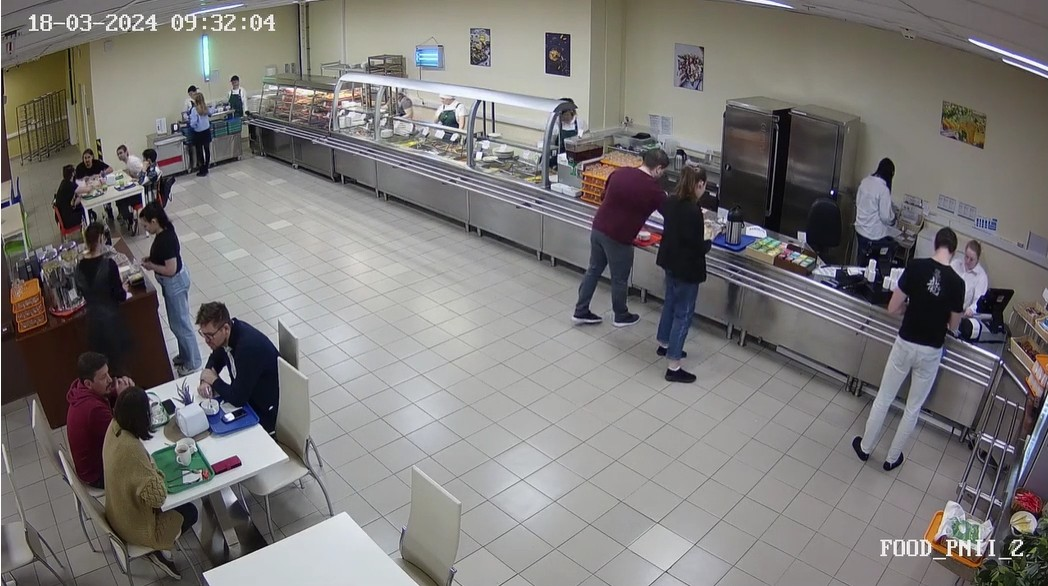Na_Kasse: (772, 215, 992, 473)
Ne_v_Ocheredi: (118, 200, 245, 361), (71, 223, 125, 346)
Personal: (850, 151, 900, 268), (426, 76, 474, 145), (542, 93, 585, 155), (961, 233, 992, 315), (225, 69, 253, 118)
Vybiraet: (511, 126, 685, 329), (657, 163, 722, 383), (188, 85, 216, 172)
Za_Stolom: (37, 346, 128, 486), (194, 291, 287, 420), (104, 384, 171, 549), (47, 164, 86, 225), (110, 130, 142, 180), (133, 147, 167, 194), (69, 142, 113, 178)
